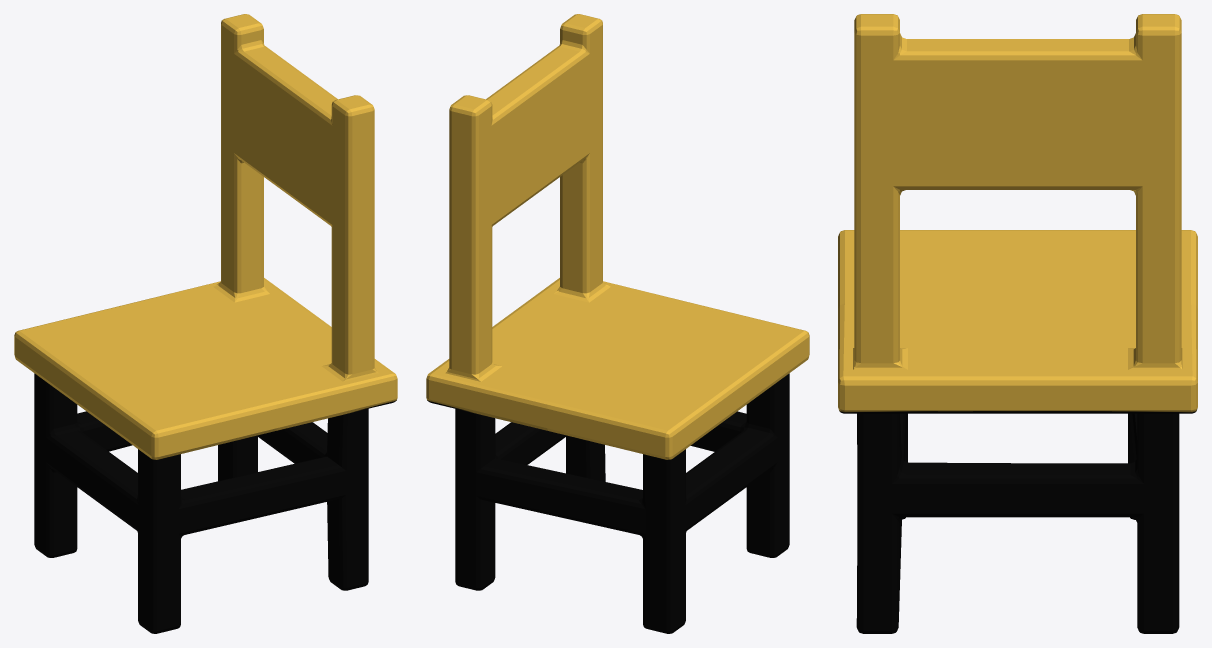
Rendered from chair.glb.
The picture shows the model from 3 angles, left to right: view 1: azimuth 30°, elevation 25°; view 2: azimuth 150°, elevation 25°; view 3: azimuth 270°, elevation 25°; orthographic projection. The views are drawn at different scales.
Parts seen in each view (by area): view 1: Cube; view 2: Cube; view 3: Cube.
Part boxes in pixels (x1=…): Cube: x1=14, y1=14, x2=397, y2=633; Cube: x1=426, y1=14, x2=809, y2=633; Cube: x1=838, y1=14, x2=1197, y2=633.
Bounding box in the file's own units: 2 × 3.74 × 2.
1 material, 1 textured.
